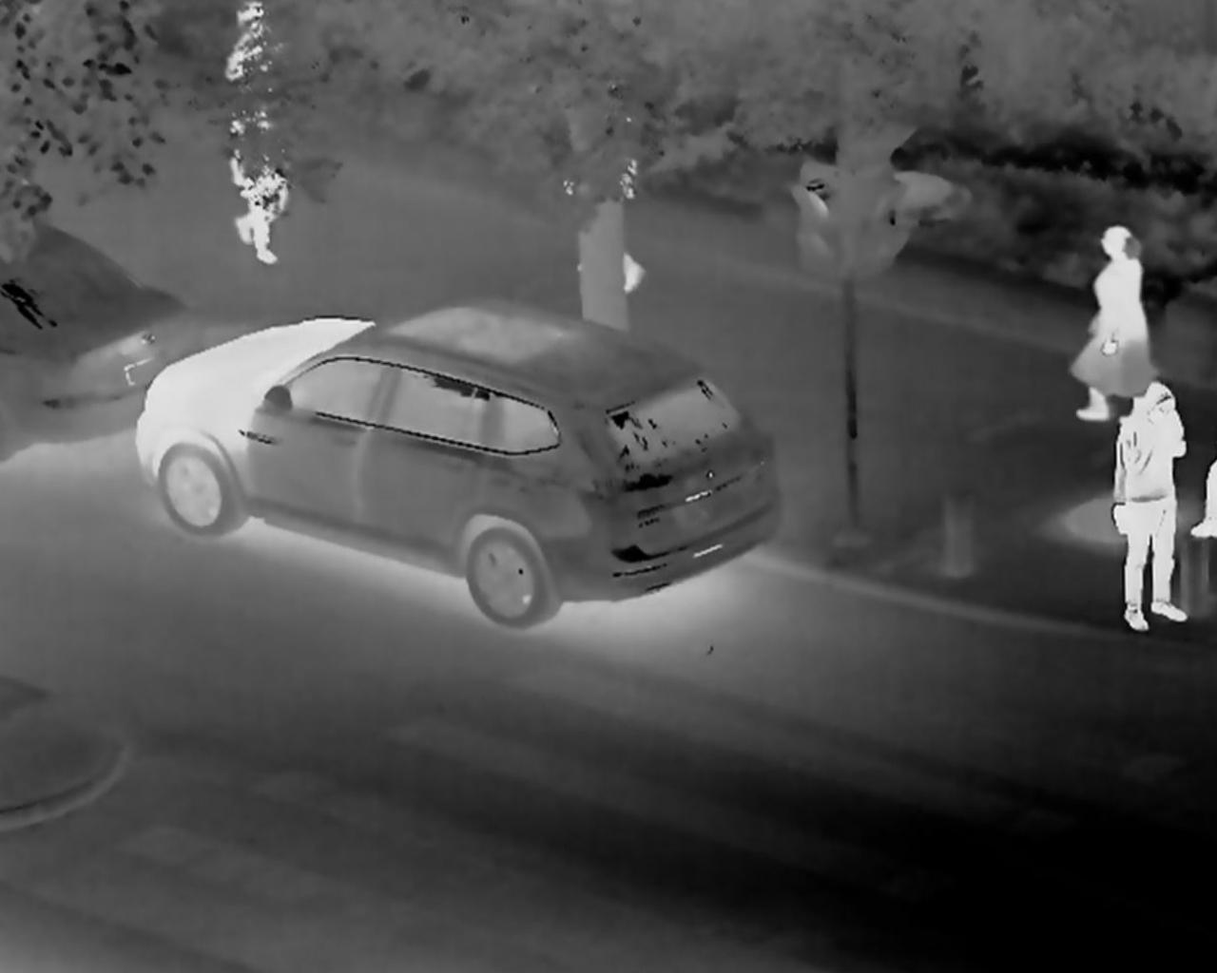person: (1104, 375, 1189, 632), (1069, 213, 1161, 427), (217, 57, 296, 266), (223, 6, 289, 181)
